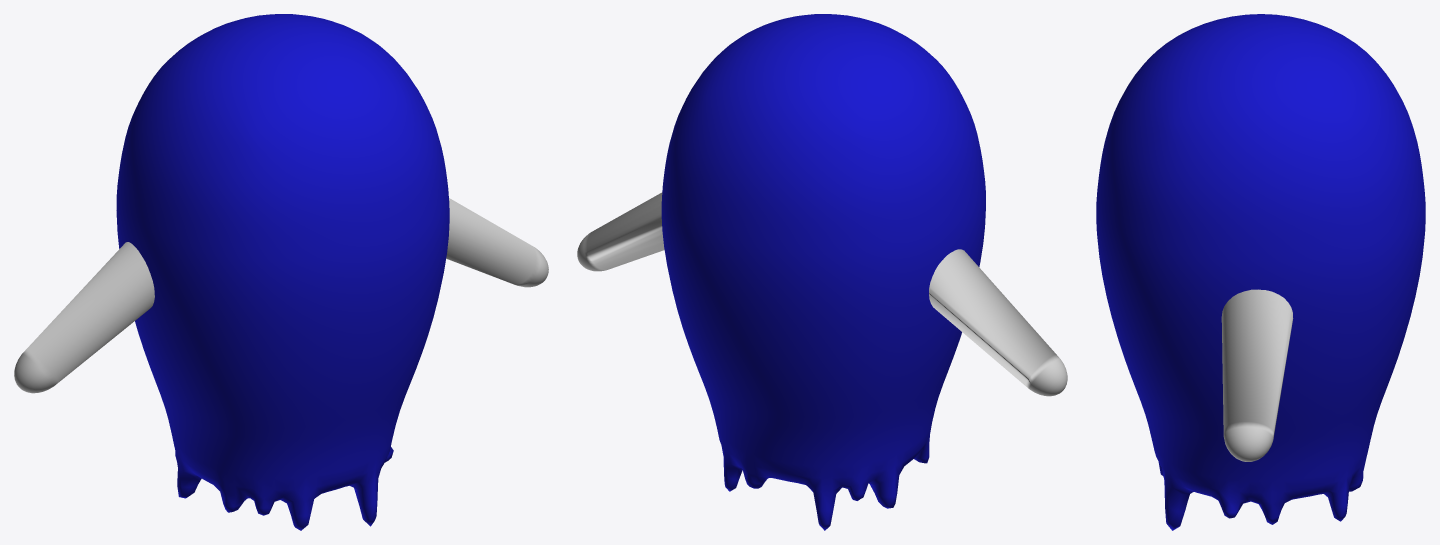
The model's file is afterThrow_000035.obj.
3 renders of one model, left to right at view 1: azimuth 30°, elevation 25°; view 2: azimuth 150°, elevation 25°; view 3: azimuth 270°, elevation 25°, orthographic. The views are drawn at different scales.
Visible parts, largest first — view 1: Cube, Sphere.001, Sphere; view 2: Cube, Sphere.001, Sphere; view 3: Cube, Sphere.
Part boxes in pixels (x1,y1,x2,y2): Cube: (116,14,449,530); Sphere.001: (14,242,154,393); Sphere: (446,198,548,287); Cube: (661,14,985,530); Sphere.001: (929,249,1067,396); Sphere: (577,192,664,271); Cube: (1096,14,1425,530); Sphere: (1221,289,1293,461).
Size of the model in its own units: 0.518 by 0.4582 by 0.2859.
